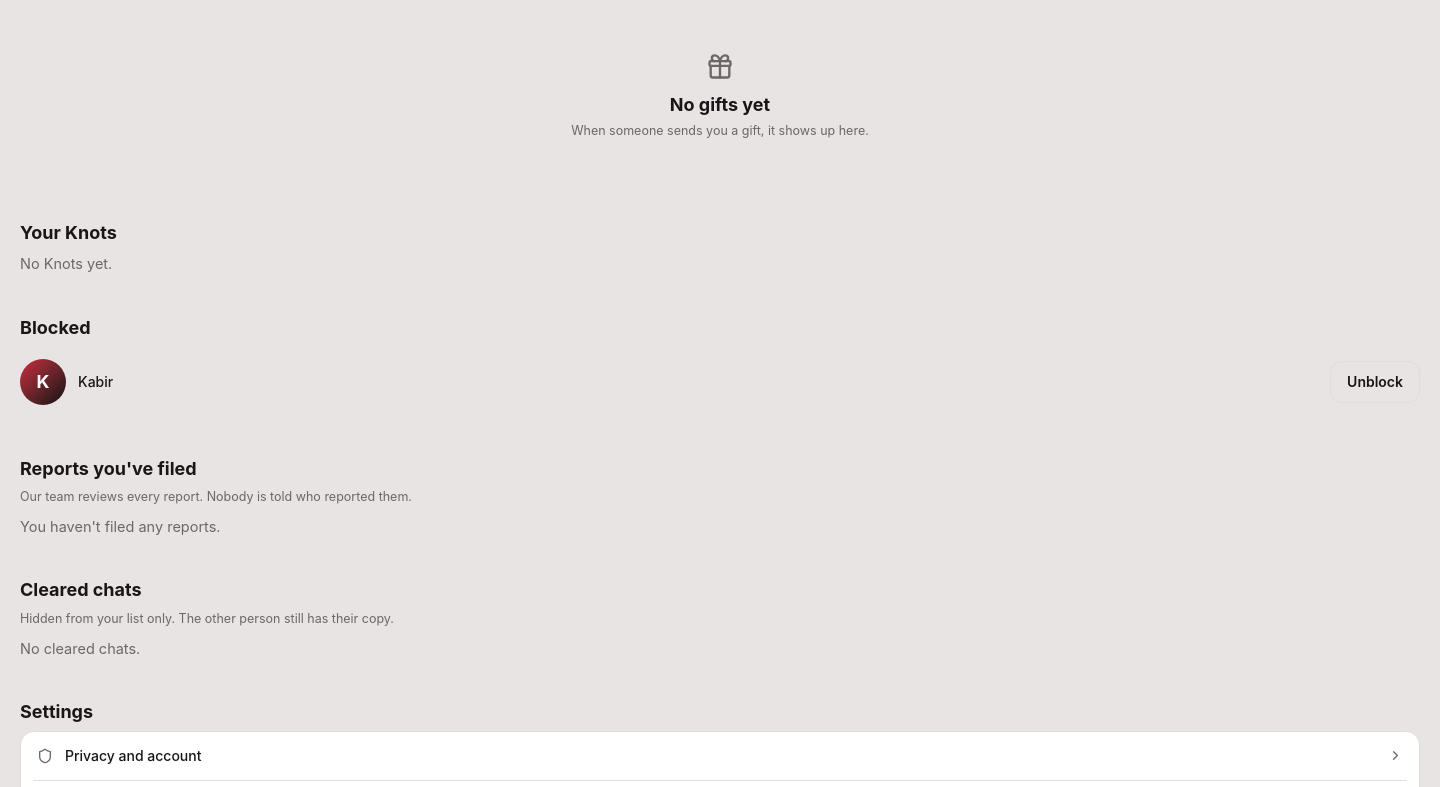
the You tab (T-9.8) › unblocks from the blocked list (P-762)
(page scrolled)
Click the button "Unblock": (1375, 382) [1330,361,1420,403]
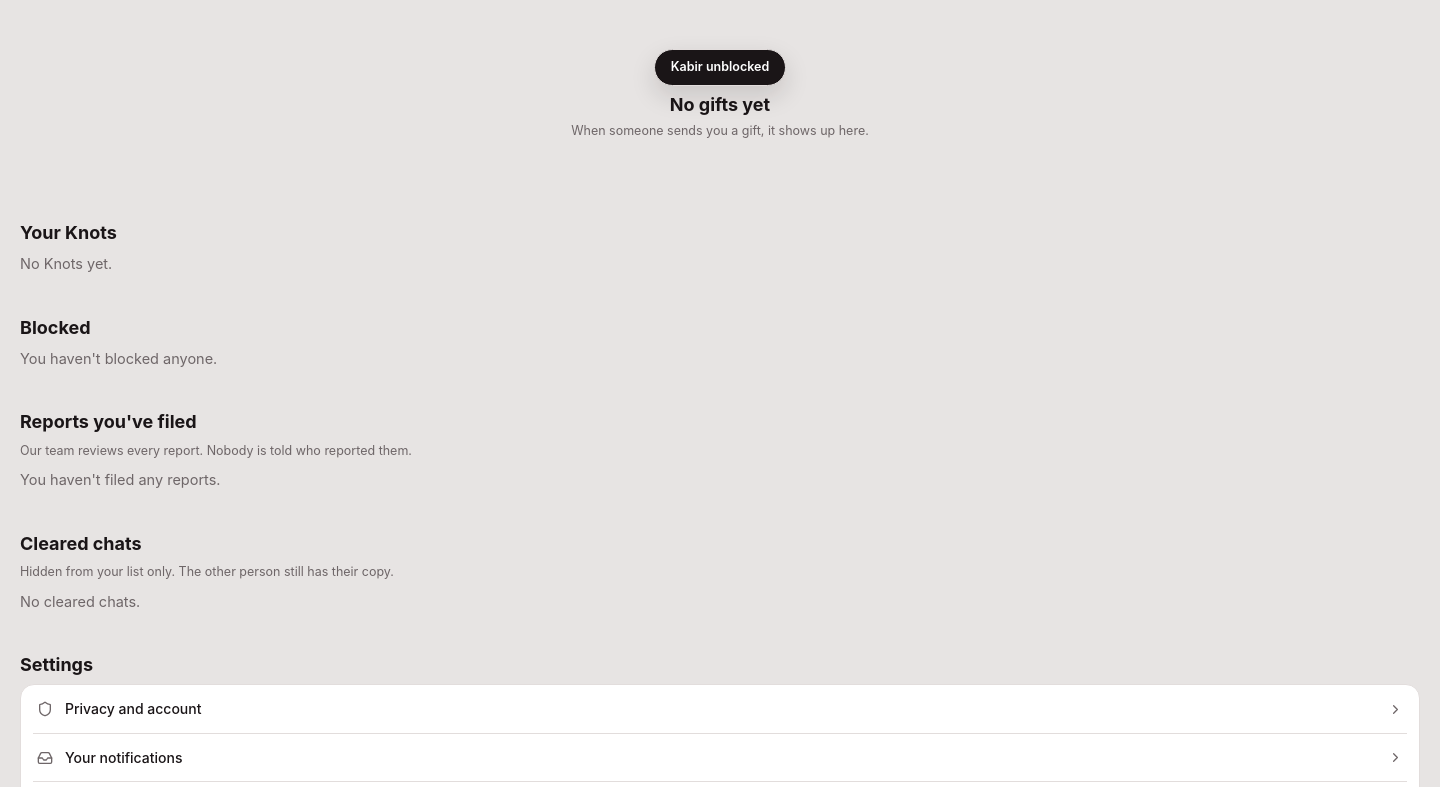
Expected: the text "You haven't blocked anyone." is shown, [20,350,217,367]
